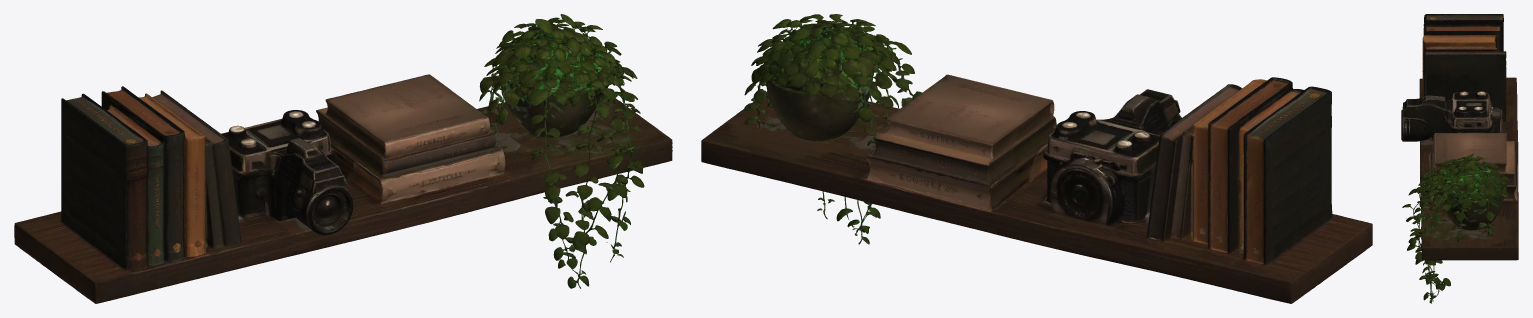
Rendered from wall-shelf.glb.
The picture shows the model from 3 angles, left to right: view 1: azimuth 30°, elevation 25°; view 2: azimuth 150°, elevation 25°; view 3: azimuth 270°, elevation 25°; orthographic projection. The views are drawn at different scales.
Bounding box in the file's own units: 1.9 × 0.8099 × 0.5551.
Materials: 1 (1 with a texture image).
